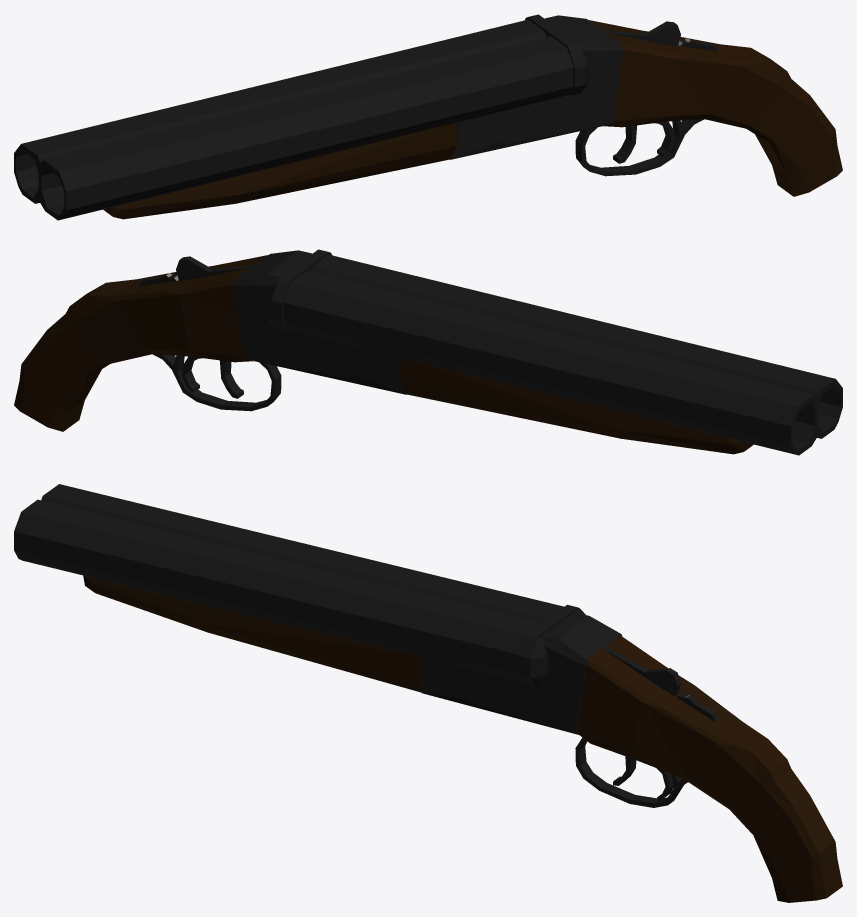
Rendered from shotgun.fbx.
3 views of the same model, one above another, from view 1: azimuth 30°, elevation 25°; view 2: azimuth 150°, elevation 25°; view 3: azimuth 330°, elevation 25° (orthographic).
Parts seen in each view (by area): view 1: Plane002; view 2: Plane002; view 3: Plane002.
Boxes of the visible parts, x1,y1,x2,y2 form: Plane002: (14,14,842,220); Plane002: (14,249,842,455); Plane002: (14,484,842,902).
Size of the model in its own units: 227 by 59.45 by 27.16.
